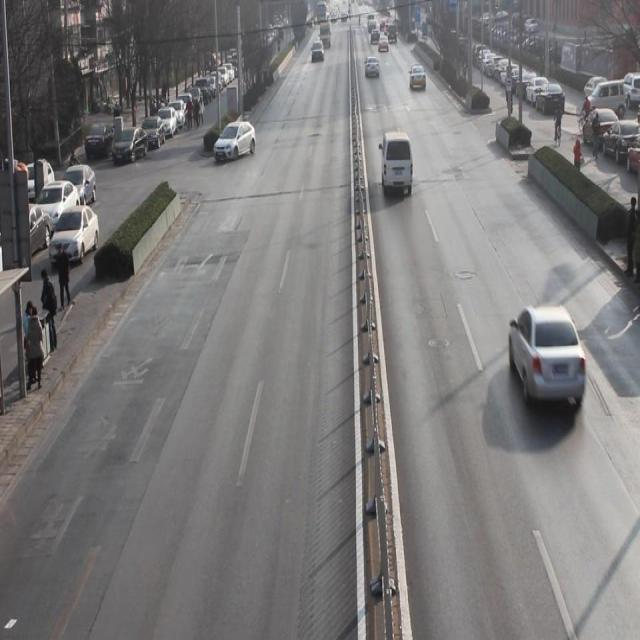car: (506, 304, 588, 418), (214, 117, 258, 164), (364, 55, 383, 84), (410, 65, 428, 93), (309, 41, 325, 64)
truck: (380, 132, 415, 202)
